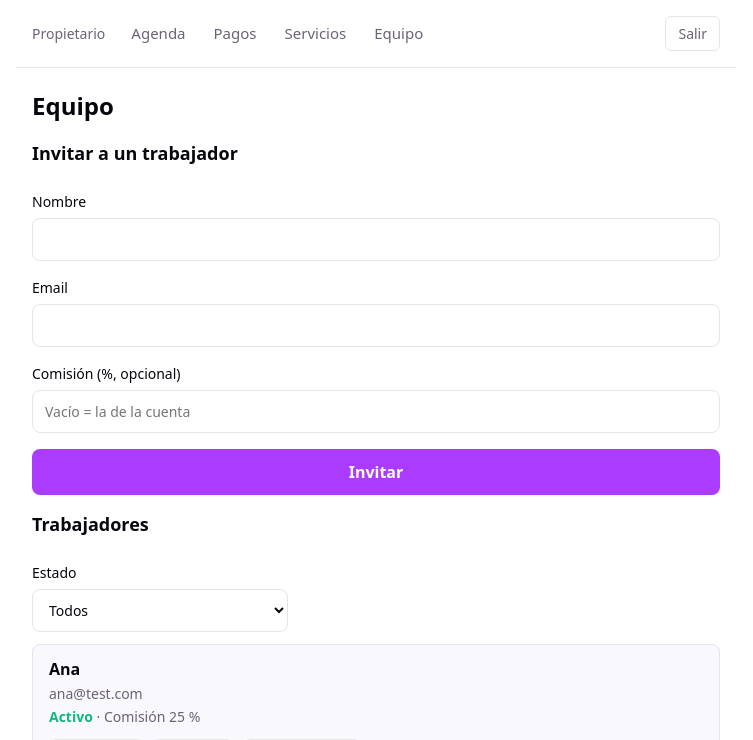
Scenario: RF-10, RF-11: invitar muestra el enlace de activación con "Copiar" y el aviso
The width and height of the screenshot is (753, 740).
Expected: the text "Ana" is shown, [49,658,80,680]
In the field labelled "Nombre": (376, 240) [32,218,720,261], type "Dani"
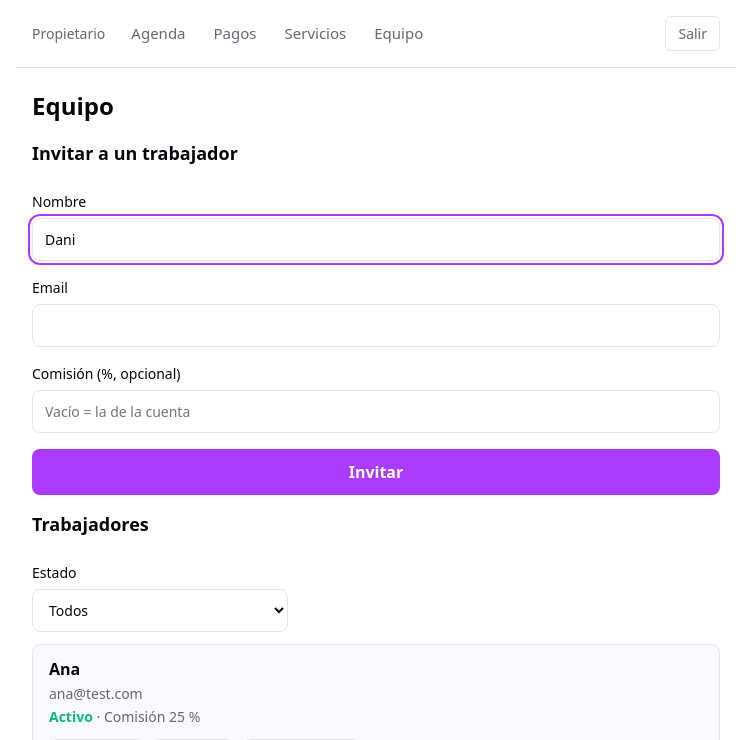
In the field labelled "Email": (376, 326) [32,304,720,347], type "dani@test.com"
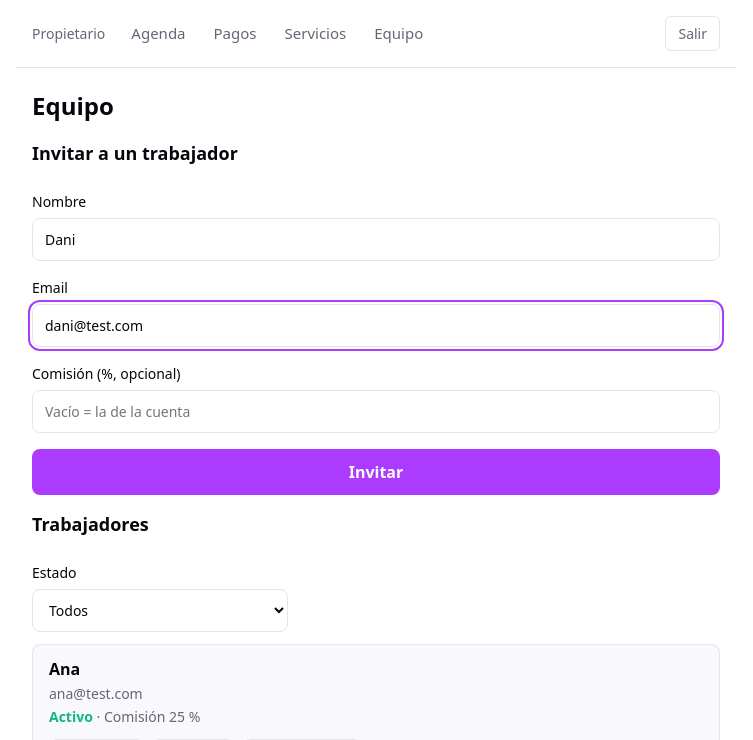
In the field labelled "Comisión (%, opcional)": (376, 412) [32,390,720,433], type "30"
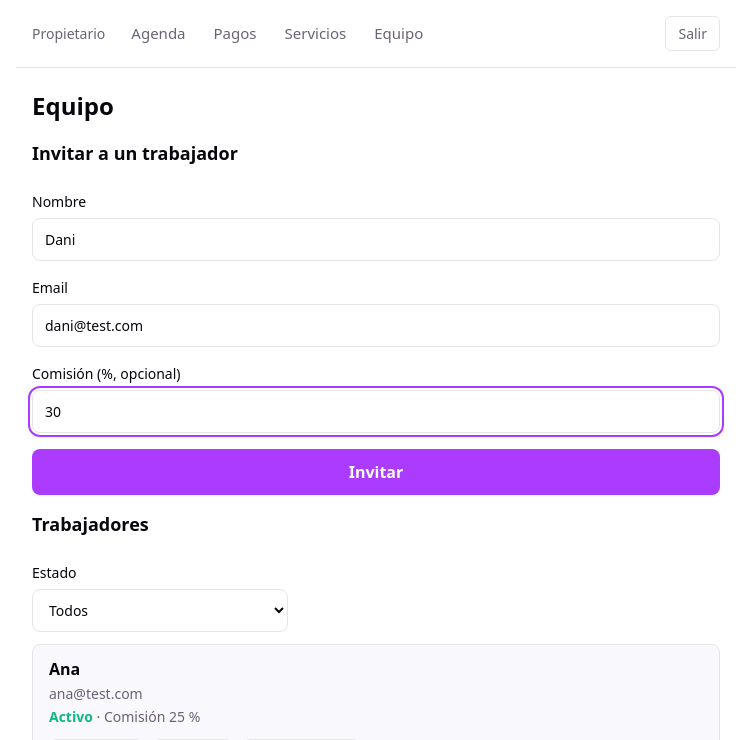
Click the button "Invitar": click(376, 472) [32,449,720,495]
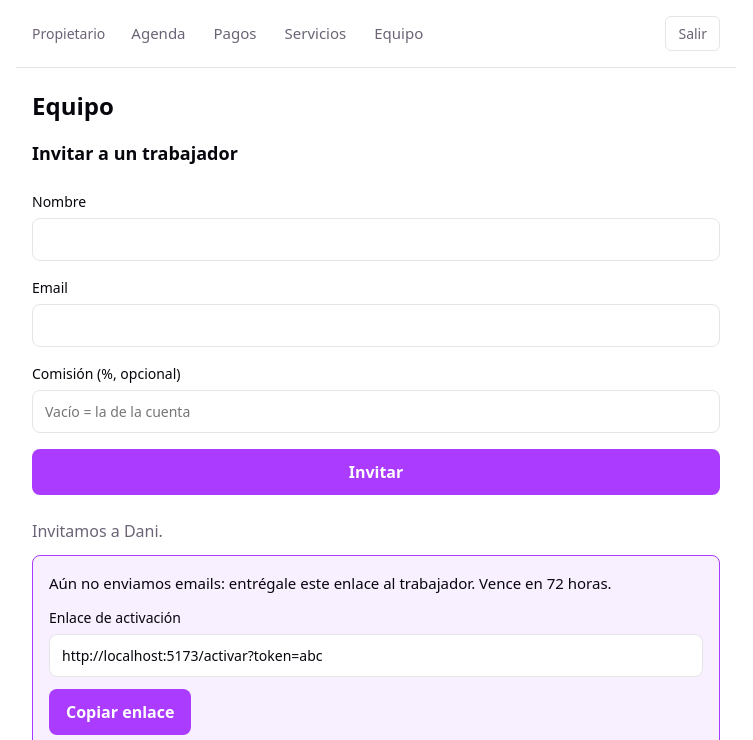
Now the field labelled "Enlace de activación" holds "http://localhost:5173/activar?token=abc", box [49,634,703,676]
Now the text "Aún no enviamos emails: entrégale este enlace al trabajador. Vence en 72 horas" is shown, box [49,573,612,593]
Now the button "Copiar enlace" is shown, box [49,688,191,734]
